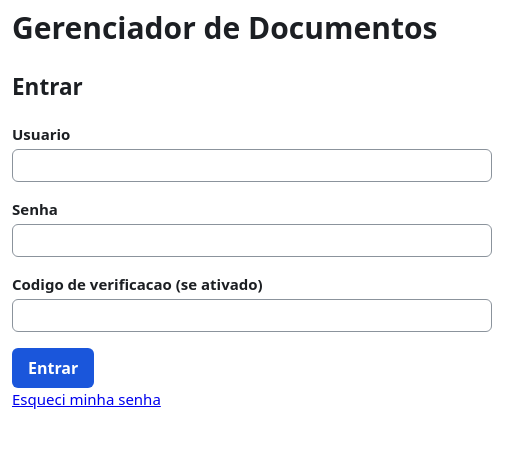
Test case: credencial invalida › mostra a mensagem da API sem revelar se o usuario existe
In the field labelled "Usuario": (252, 165) [12,149,492,182], type "paulo"
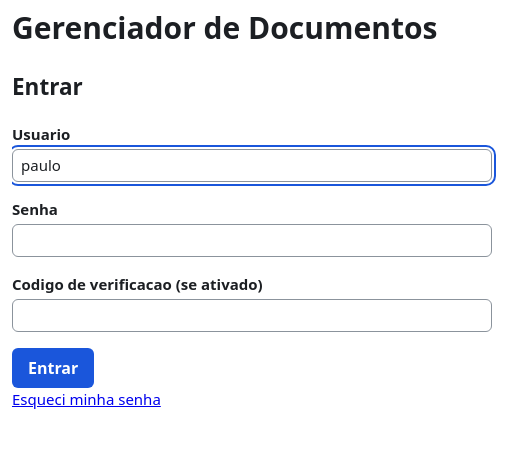
In the password field labelled "Senha": (252, 240) [12,224,492,257], type "senha-errada"
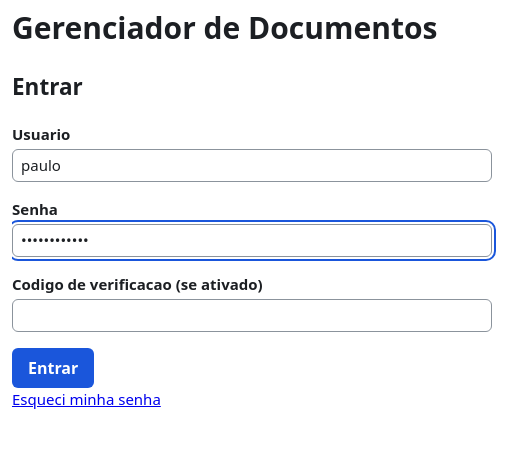
Click the button "Entrar": (53, 368) [12,348,94,388]
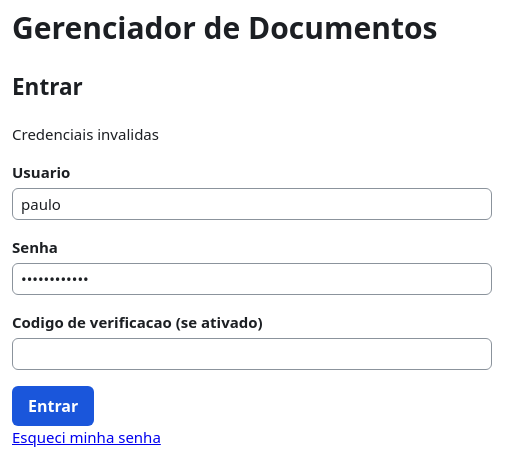
expect the message reads "Credenciais invalidas": met, box [12,124,159,144]
